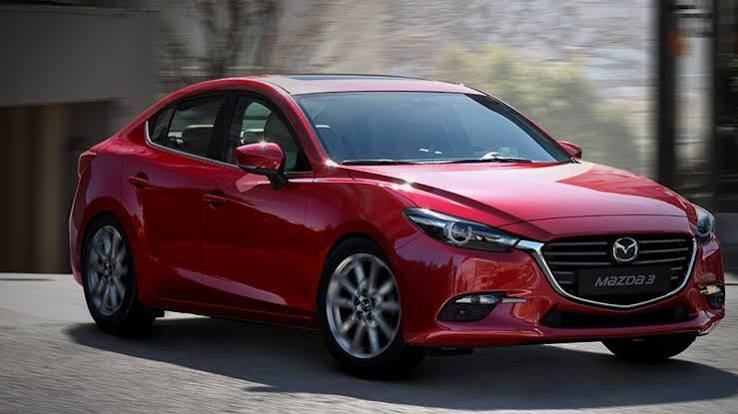car: (51, 70, 711, 377)
